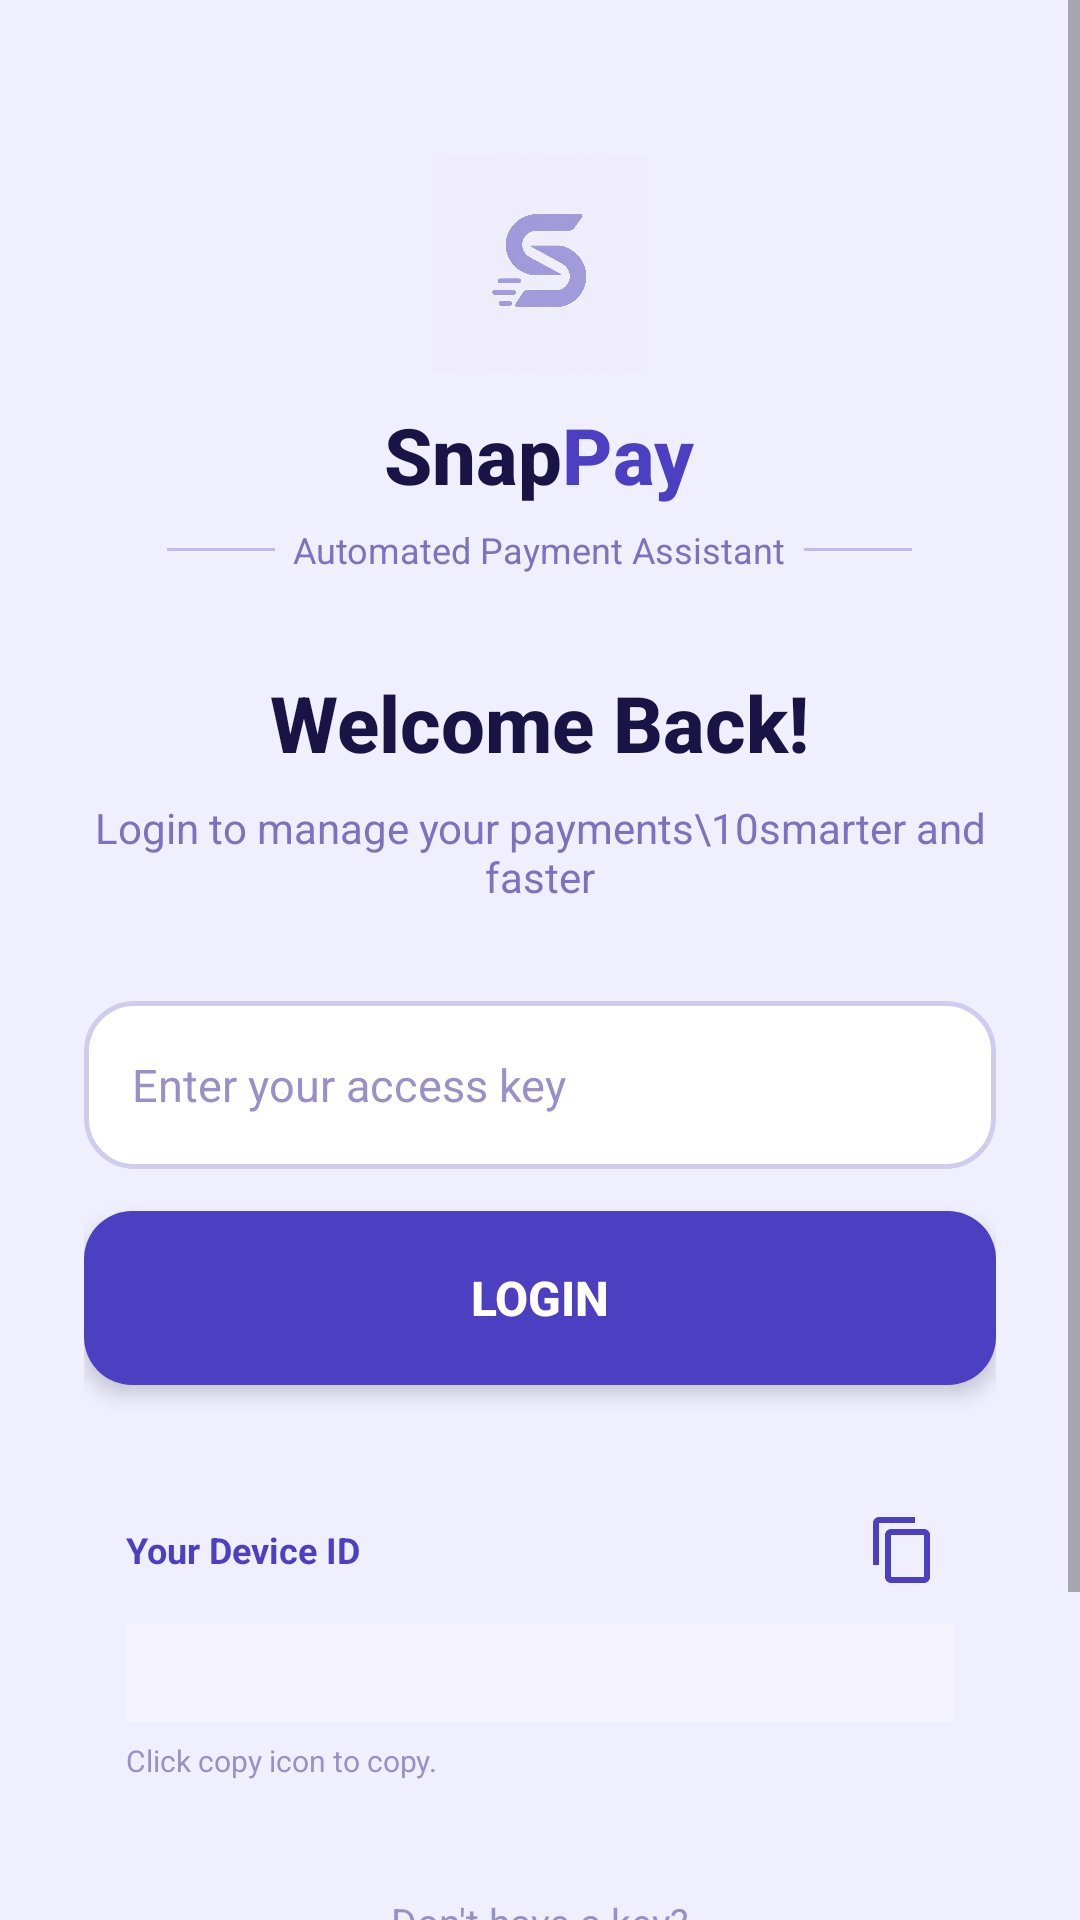

Named icons in this screenshot (1080 x 1920) and their centers, (x,y):
Copy Device ID: (901,1550)
